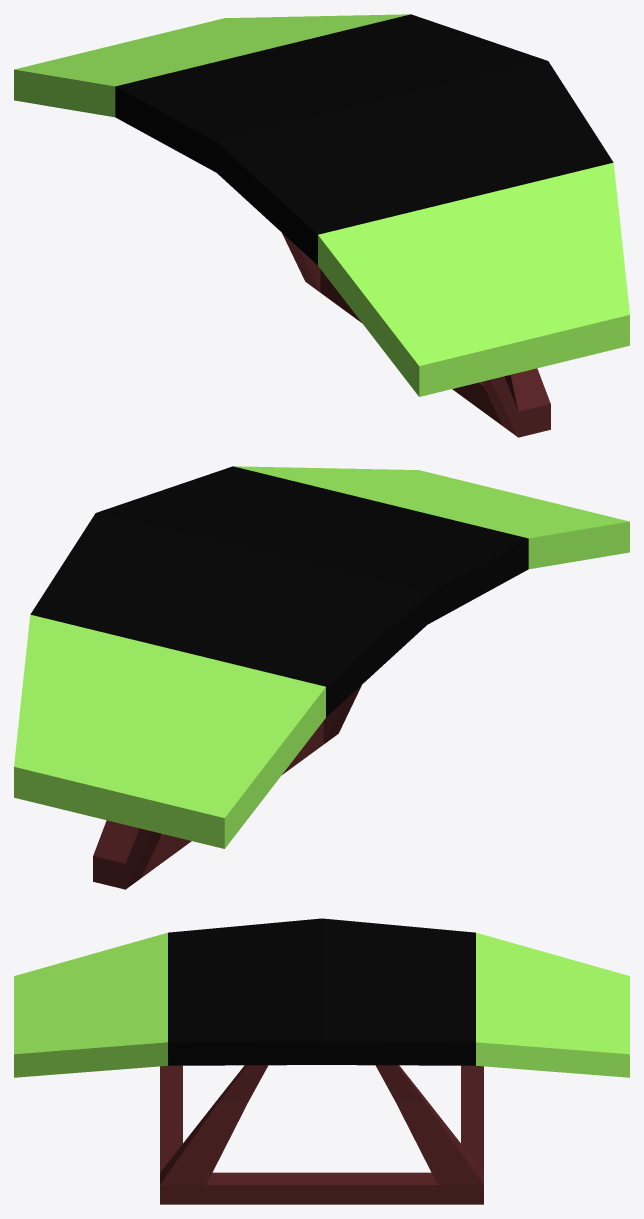
The model's file is Glider.fbx.
The picture shows the model from 3 angles, top to bottom: view 1: azimuth 30°, elevation 25°; view 2: azimuth 150°, elevation 25°; view 3: azimuth 270°, elevation 25°; orthographic projection. The views are drawn at different scales.
Parts seen in each view (by area): view 1: Cube.001; view 2: Cube.001; view 3: Cube.001.
Boxes of the visible parts, bbox=[...] form: Cube.001: bbox=[14, 14, 629, 437]; Cube.001: bbox=[14, 466, 629, 889]; Cube.001: bbox=[14, 918, 629, 1204].
Bounding box in the file's own units: 124 × 95.06 × 263.
